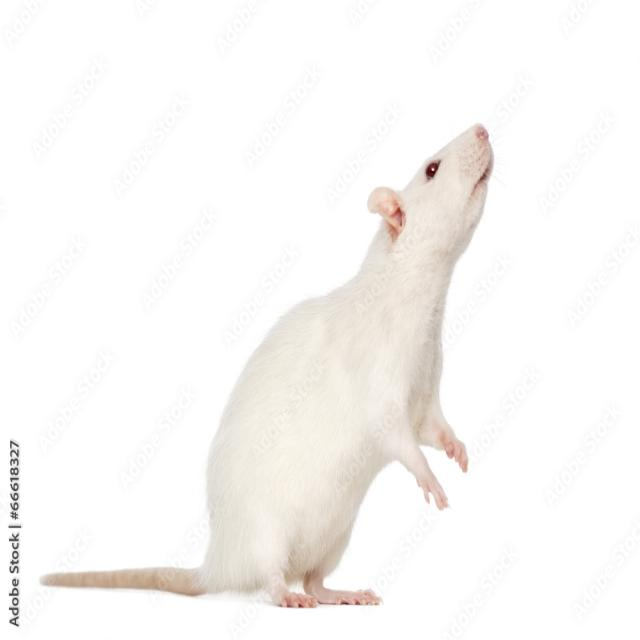rodent: (197, 112, 509, 611)
